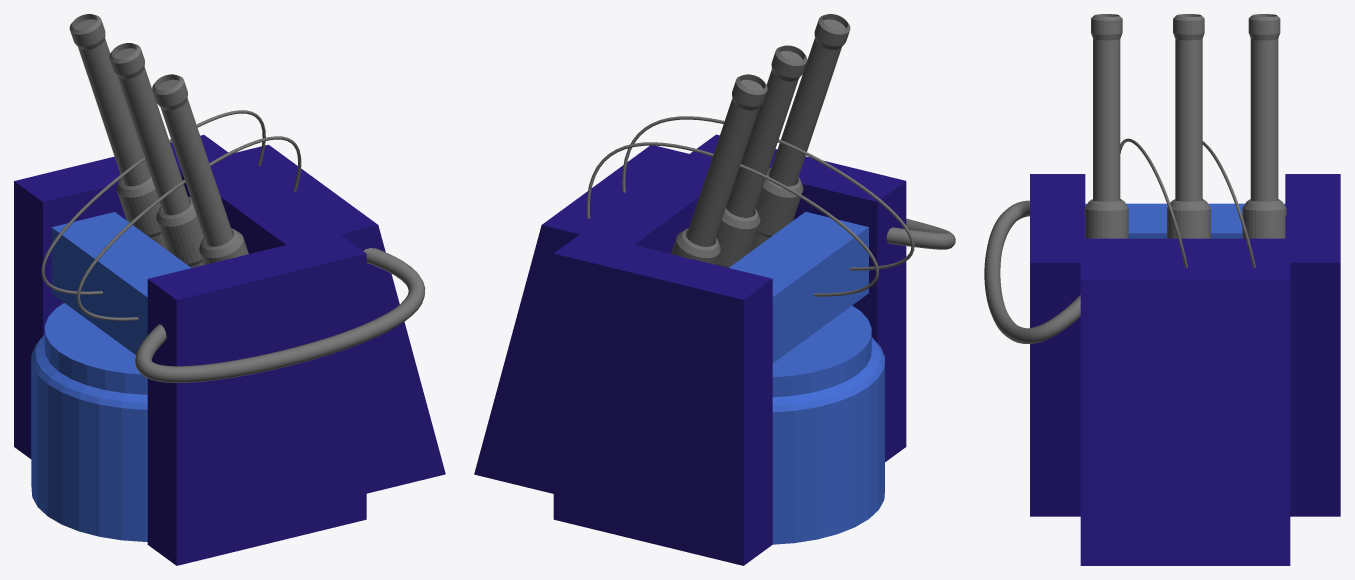
File: Gun5.fbx
3 renders of one model, left to right at view 1: azimuth 30°, elevation 25°; view 2: azimuth 150°, elevation 25°; view 3: azimuth 270°, elevation 25°, orthographic. The views are drawn at different scales.
Visible parts, largest first — view 1: Cube.001, Cylinder.003, Cube, Cylinder, NurbsPath.002, Cylinder.001, Cylinder.002, NurbsPath.001, NurbsPath; view 2: Cube.001, Cylinder.003, Cube, Cylinder.002, Cylinder, Cylinder.001, NurbsPath, NurbsPath.001, NurbsPath.002; view 3: Cube.001, Cylinder.001, Cylinder.002, Cylinder, NurbsPath.002, Cube, NurbsPath.001, NurbsPath.
Part boxes in pixels (x1=…): Cube.001: x1=14, y1=135, x2=445, y2=565; Cylinder.003: x1=31, y1=303, x2=147, y2=541; Cube: x1=51, y1=212, x2=191, y2=354; Cylinder: x1=109, y1=43, x2=203, y2=267; NurbsPath.002: x1=135, y1=248, x2=425, y2=382; Cylinder.001: x1=69, y1=14, x2=165, y2=248; Cylinder.002: x1=152, y1=74, x2=248, y2=264; NurbsPath.001: x1=76, y1=136, x2=301, y2=320; NurbsPath: x1=41, y1=110, x2=265, y2=294; Cube.001: x1=474, y1=134, x2=906, y2=565; Cylinder.003: x1=772, y1=305, x2=884, y2=544; Cube: x1=729, y1=211, x2=868, y2=363; Cylinder.002: x1=750, y1=14, x2=850, y2=251; Cylinder: x1=716, y1=45, x2=807, y2=267; Cylinder.001: x1=671, y1=74, x2=767, y2=264; NurbsPath: x1=586, y1=142, x2=878, y2=296; NurbsPath.001: x1=622, y1=116, x2=914, y2=270; NurbsPath.002: x1=886, y1=218, x2=955, y2=249; Cube.001: x1=1030, y1=174, x2=1340, y2=565; Cylinder.001: x1=1242, y1=14, x2=1286, y2=238; Cylinder.002: x1=1084, y1=14, x2=1128, y2=238; Cylinder: x1=1167, y1=14, x2=1210, y2=238; NurbsPath.002: x1=984, y1=200, x2=1080, y2=343; Cube: x1=1085, y1=203, x2=1285, y2=238; NurbsPath.001: x1=1120, y1=138, x2=1187, y2=267; NurbsPath: x1=1202, y1=141, x2=1255, y2=267.
Bounding box in the file's own units: 2.14 × 2.63 × 1.97.
